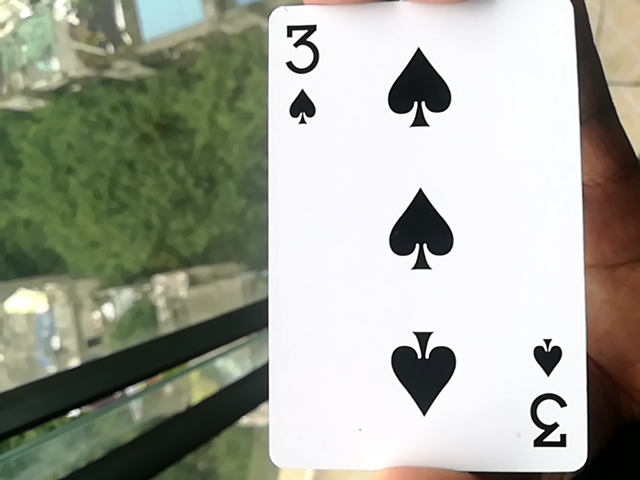ht 3: (251, 7, 603, 476)
